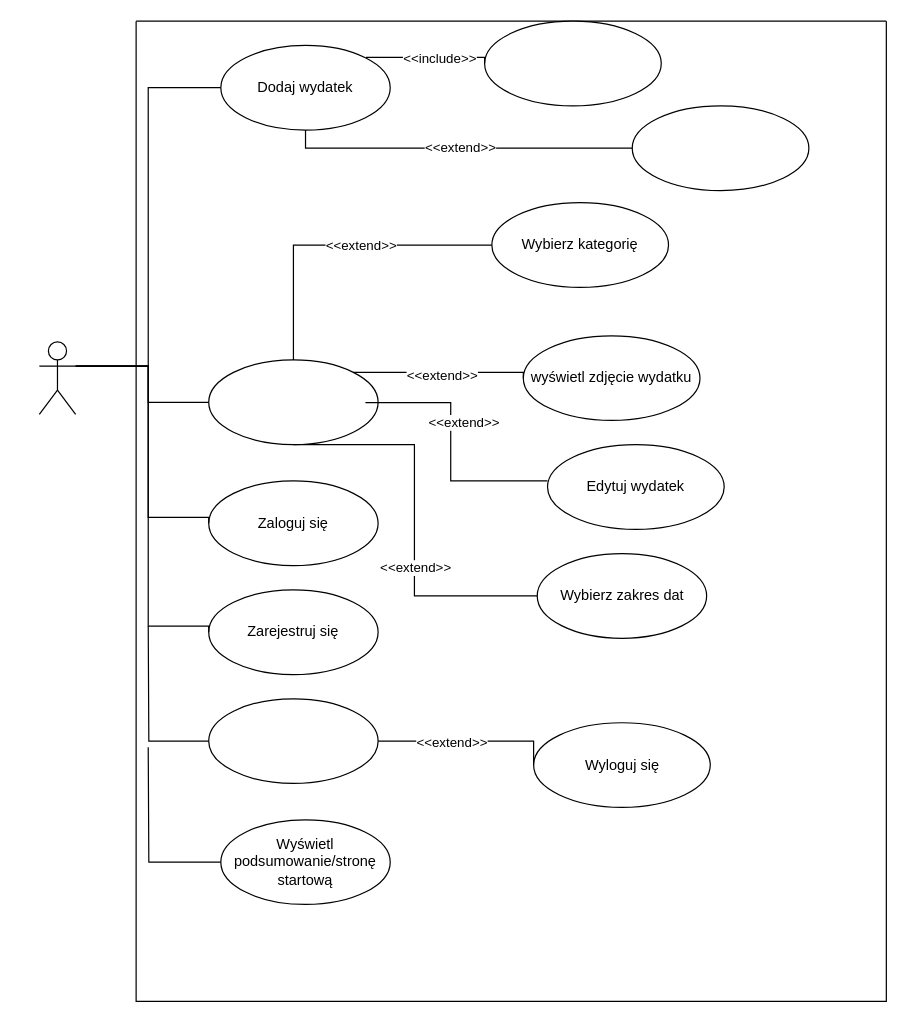
This 908x1022 diagram has some shape labels left out. Each missing label, with the centre of its shape:
"Dodaj zdjęcie" goes at pixel 720 148.
"uzupełnij dane" goes at pixel 572 63.
"Użytkownik" goes at pixel 57 377.
"wyświetl informacje o koncie" goes at pixel 293 740.
"Wyświetl listę wydatków" goes at pixel 293 402.
